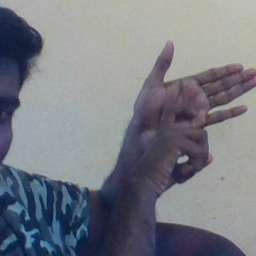R: (115, 38, 256, 176)
